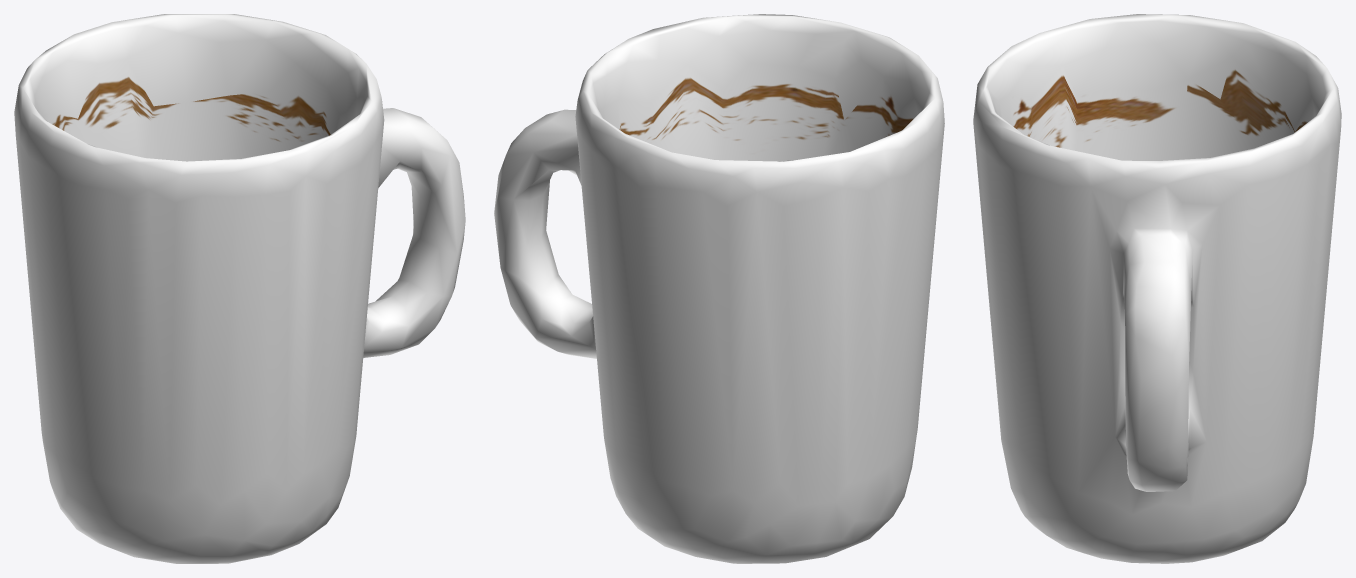
File: Dirty Mug NEW.fbx
3 renders of one model, left to right at view 1: azimuth 30°, elevation 25°; view 2: azimuth 150°, elevation 25°; view 3: azimuth 270°, elevation 25°, orthographic.
Parts seen in each view (by area): view 1: DirtyMug; view 2: DirtyMug; view 3: DirtyMug.
Part boxes in pixels (bbox=[...]): DirtyMug: bbox=[14, 14, 465, 563]; DirtyMug: bbox=[494, 14, 944, 563]; DirtyMug: bbox=[973, 14, 1341, 563].
Bounding box in the file's own units: 407 × 404 × 312.
